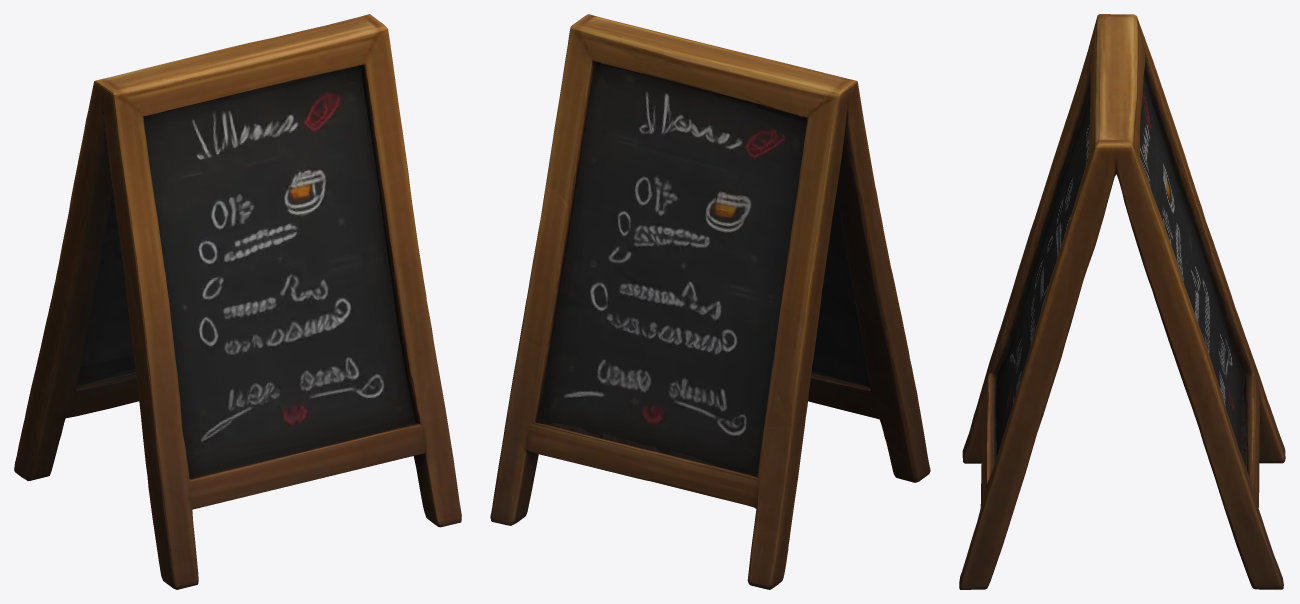
The picture shows the model from 3 angles, left to right: view 1: azimuth 30°, elevation 25°; view 2: azimuth 150°, elevation 25°; view 3: azimuth 270°, elevation 25°; orthographic projection.
Visible parts, largest first — view 1: world; view 2: world; view 3: world.
Part boxes in pixels (x1,y1,x2,y2): world: [14, 14, 461, 589]; world: [490, 14, 930, 589]; world: [959, 14, 1285, 589].
Size of the model in its own units: 0.6692 by 0.9996 by 0.6664.
Materials: 1 (1 with a texture image).
